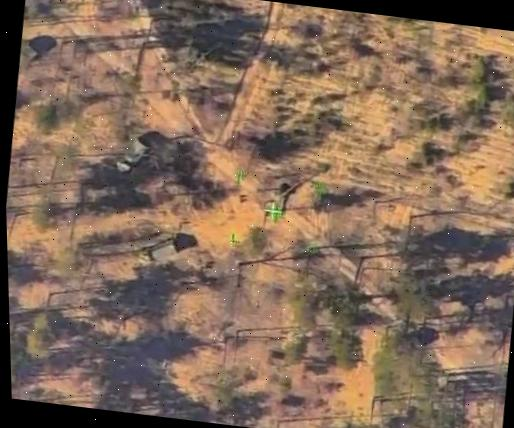sau: (253, 168, 309, 212)
truck: (113, 133, 149, 174), (137, 234, 179, 264)
